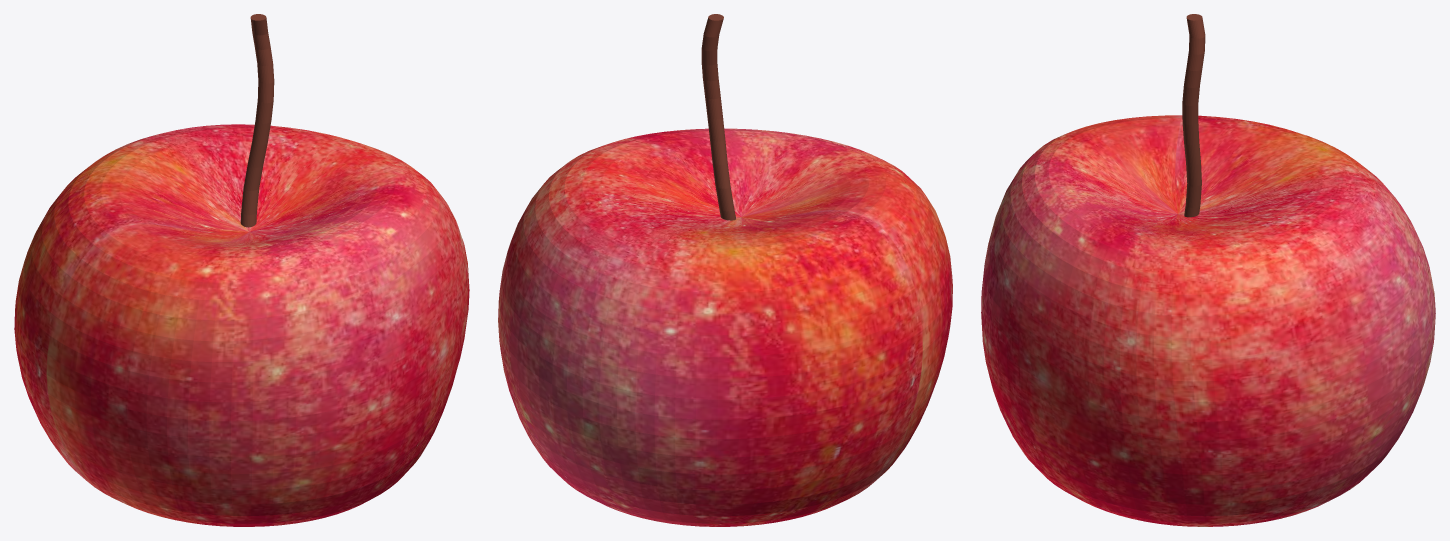
The model's file is Apple.fbx.
3 renders of one model, left to right at view 1: azimuth 30°, elevation 25°; view 2: azimuth 150°, elevation 25°; view 3: azimuth 270°, elevation 25°, orthographic.
Visible parts, largest first — view 1: Sphere, Cylinder; view 2: Sphere, Cylinder; view 3: Sphere, Cylinder.
Part boxes in pixels (box(x1,y1,x2,y2)): Sphere: box(14, 124, 469, 526); Cylinder: box(240, 14, 274, 227); Sphere: box(498, 128, 952, 526); Cylinder: box(701, 14, 735, 220); Sphere: box(981, 115, 1435, 526); Cylinder: box(1182, 14, 1205, 217).
Bounding box in the file's own units: 205 × 219 × 199.
